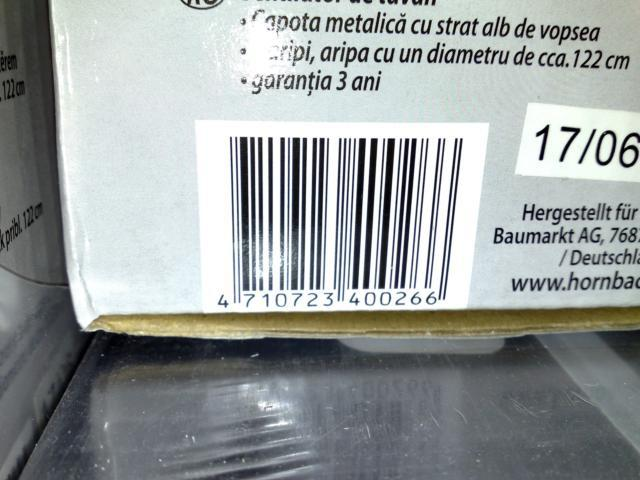Barcode: (196, 119, 489, 311)
